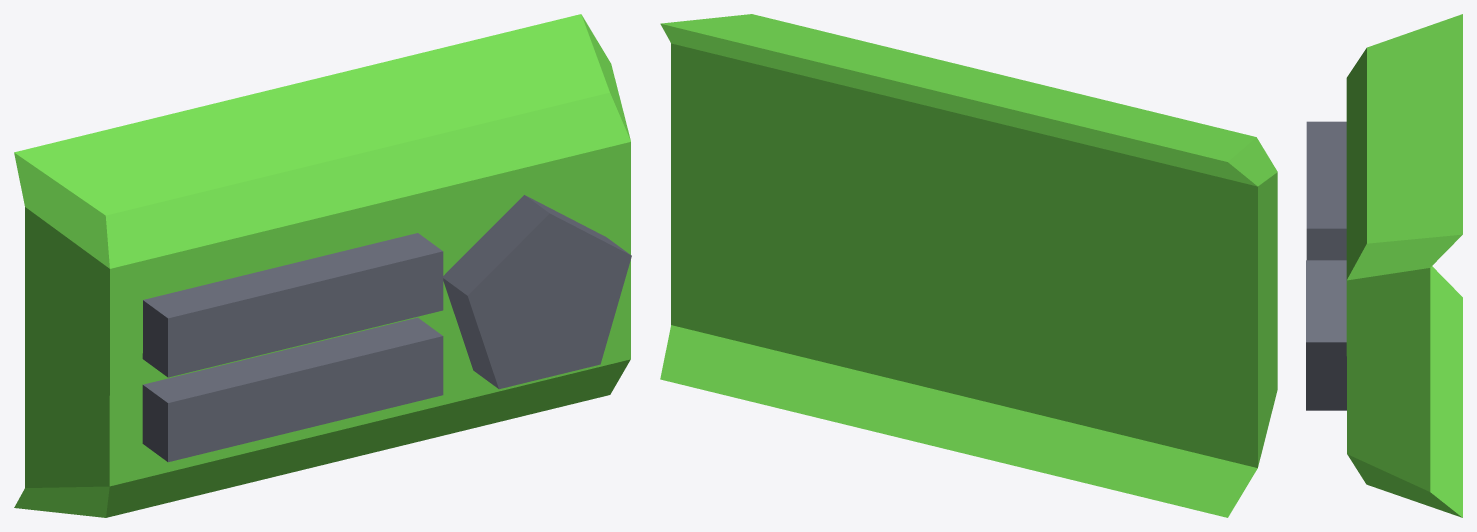
Rendered from target_0_console.fbx.
3 views of the same model, side by side, from view 1: azimuth 30°, elevation 25°; view 2: azimuth 150°, elevation 25°; view 3: azimuth 270°, elevation 25° (orthographic). The views are drawn at different scales.
Parts seen in each view (by area): view 1: target_0_console; view 2: target_0_console; view 3: target_0_console.
Part boxes in pixels (x1,y1,x2,y2): target_0_console: (14,14,631,517); target_0_console: (660,14,1277,517); target_0_console: (1306,14,1462,517).
Size of the model in its own units: 51.76 by 30 by 15.04.
